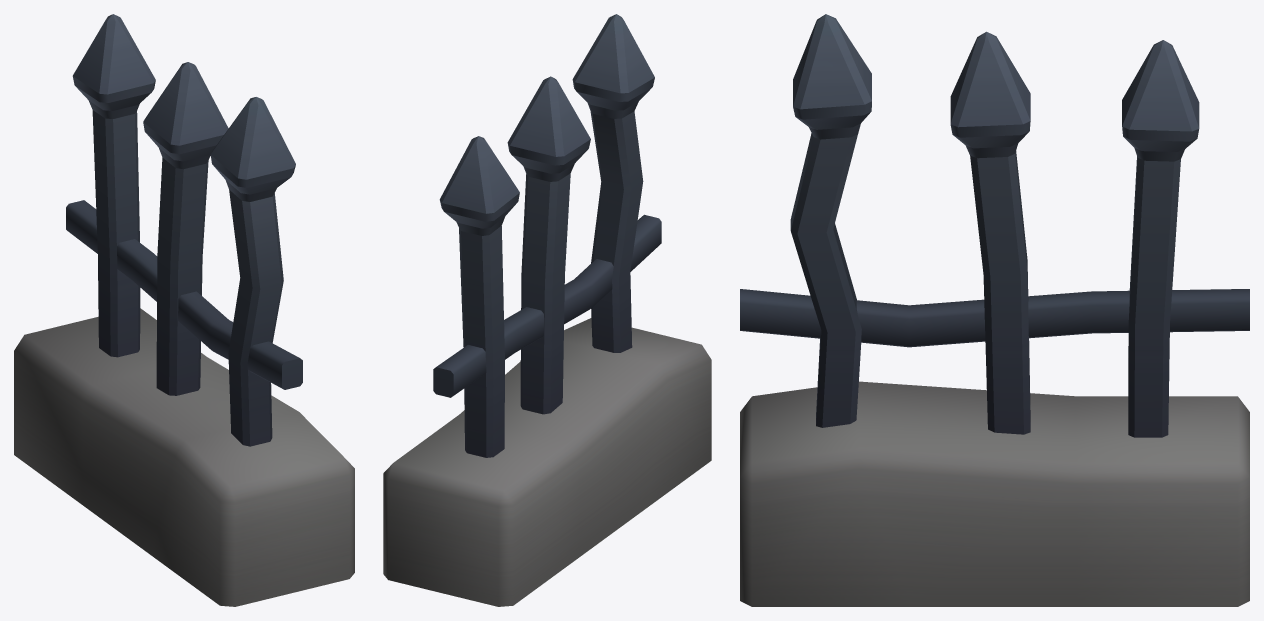
File: Fence_5_1.glb
3 renders of one model, left to right at view 1: azimuth 30°, elevation 25°; view 2: azimuth 150°, elevation 25°; view 3: azimuth 270°, elevation 25°, orthographic. The views are drawn at different scales.
Visible parts, largest first — view 1: Fence_5_1; view 2: Fence_5_1; view 3: Fence_5_1.
Part boxes in pixels (left/top/right/bottom): Fence_5_1: left=14, top=14, right=354, bottom=606; Fence_5_1: left=383, top=14, right=711, bottom=606; Fence_5_1: left=740, top=14, right=1249, bottom=606.
Size of the model in its own units: 0.3513 by 1.17 by 0.9745.
2 materials, 2 textured.
